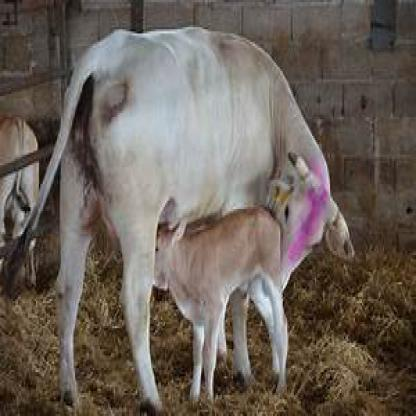cow: (57, 48, 349, 412), (141, 224, 296, 406)
